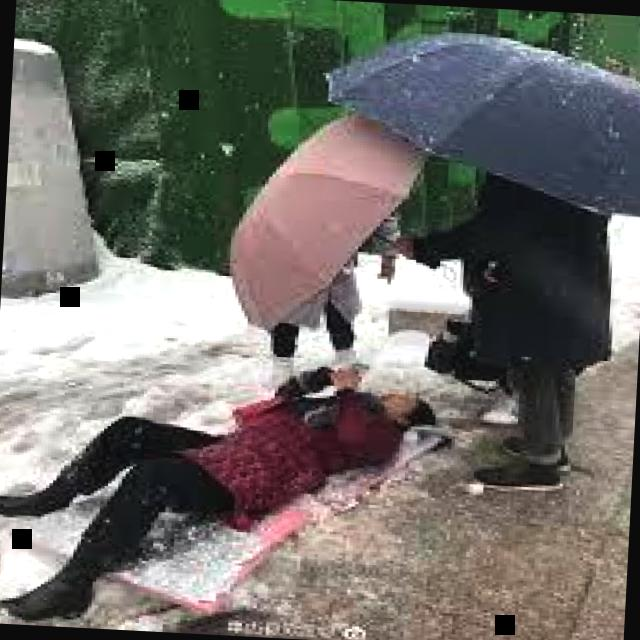Fall-Detected: (0, 329, 449, 640)
